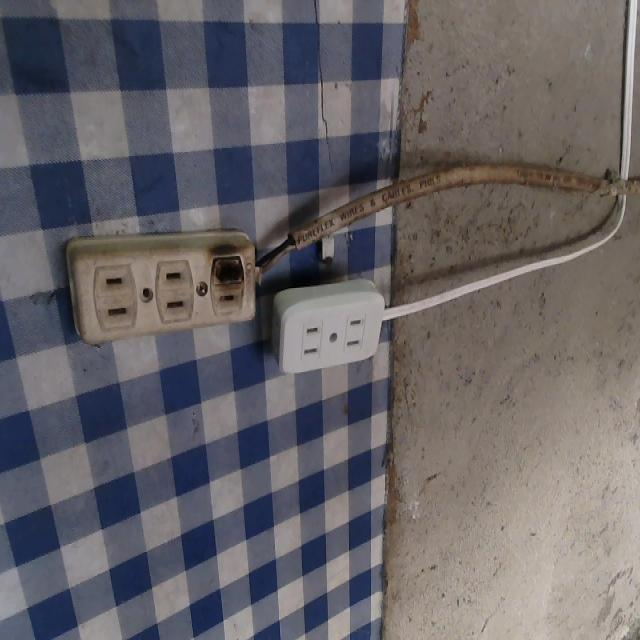-: (204, 241, 248, 292)
